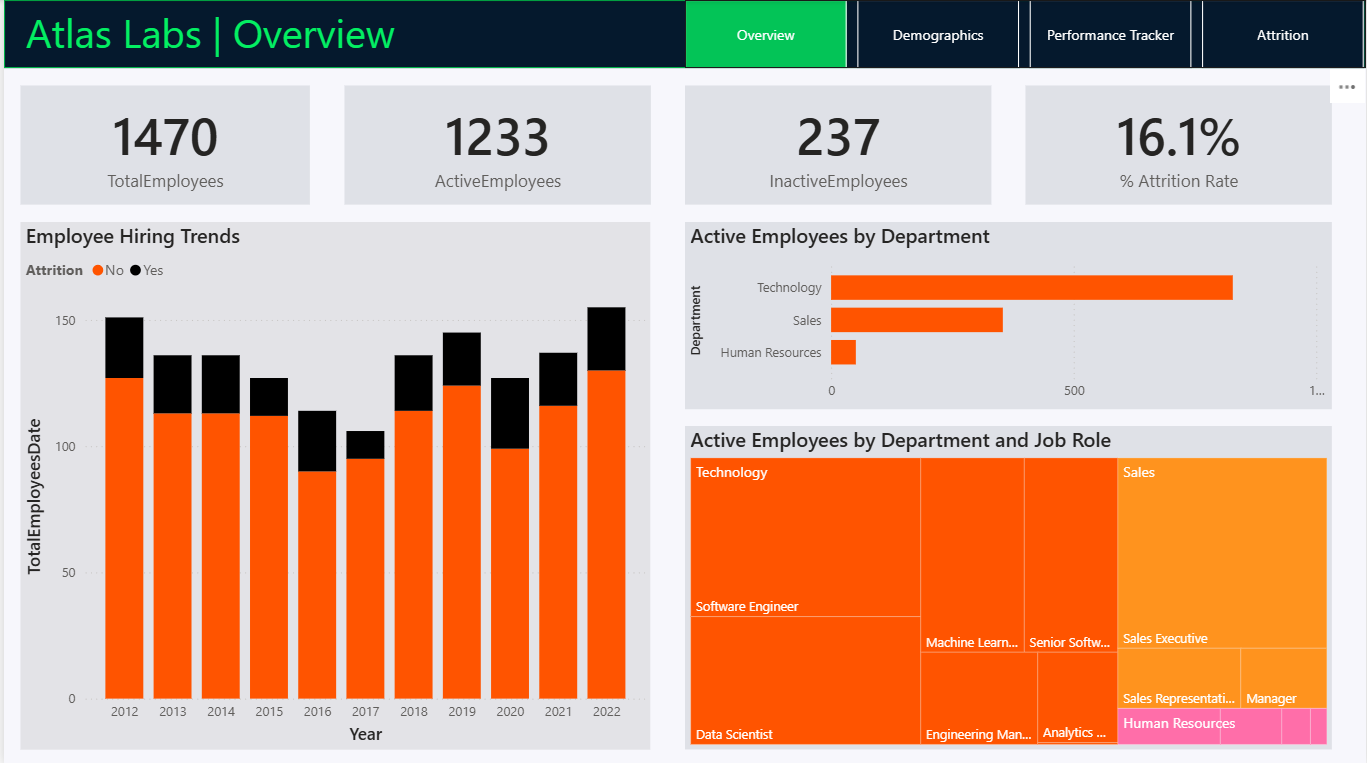

The page's visual inventory and layout, read from the dashboard file:
{"tool":"powerbi","page":{"name":"Overview","canvas":[1280,720],"ordinal":0},"visuals":[{"type":"card","fields":{"Values":["_Measures.TotalEmployees"]},"box":[16,80,272,112],"z":0},{"type":"card","fields":{"Values":["_Measures.ActiveEmployees"]},"box":[320,80,288,112],"z":1000},{"type":"card","fields":{"Values":["_Measures.InactiveEmployees"]},"box":[640,80,288,112],"z":2000},{"type":"card","fields":{"Values":["_Measures.% Attrition Rate"]},"box":[960,80,288,112],"z":3000},{"type":"columnChart","title":"Employee Hiring Trends","fields":{"Category":["DimDate.Date.Variation.Date Hierarchy.Year","DimDate.Date.Variation.Date Hierarchy.Quarter","DimDate.Date.Variation.Date Hierarchy.Month","DimDate.Date.Variation.Date Hierarchy.Day"],"Y":["_Measures.TotalEmployeesDate"],"Series":["DimEmployee.Attrition"]},"box":[16,208,592,496],"z":4000},{"type":"clusteredBarChart","title":"Active Employees by Department","fields":{"Category":["DimEmployee.Department"],"Y":["_Measures.ActiveEmployees"]},"box":[640,208,608,176],"z":5000},{"type":"treemap","title":"Active Employees by Department and Job Role","fields":{"Values":["_Measures.ActiveEmployees"],"Group":["DimEmployee.Department"],"Details":["DimEmployee.JobRole"]},"box":[640,400,608,304],"z":6000},{"type":"shape","box":[0,0,1280,64],"z":7000},{"type":"textbox","box":[16,0,448,64],"z":8000},{"type":"pageNavigator","box":[640,0,640,64],"z":9000}]}

Visuals, with their boxes in screenshot pixels (x1, y1, x2, y2), scaled from the page's 1280x720 canvas onto the 1367x763 screenshot:
card - _Measures.TotalEmployees: {"left": 17, "top": 85, "right": 308, "bottom": 203}
card - _Measures.ActiveEmployees: {"left": 342, "top": 85, "right": 649, "bottom": 203}
card - _Measures.InactiveEmployees: {"left": 684, "top": 85, "right": 991, "bottom": 203}
card - _Measures.% Attrition Rate: {"left": 1025, "top": 85, "right": 1333, "bottom": 203}
"Employee Hiring Trends" columnChart: {"left": 17, "top": 220, "right": 649, "bottom": 746}
"Active Employees by Department" clusteredBarChart: {"left": 684, "top": 220, "right": 1333, "bottom": 407}
"Active Employees by Department and Job Role" treemap: {"left": 684, "top": 424, "right": 1333, "bottom": 746}
shape: {"left": 0, "top": 0, "right": 1366, "bottom": 68}
textbox: {"left": 17, "top": 0, "right": 496, "bottom": 68}
pageNavigator: {"left": 684, "top": 0, "right": 1366, "bottom": 68}
